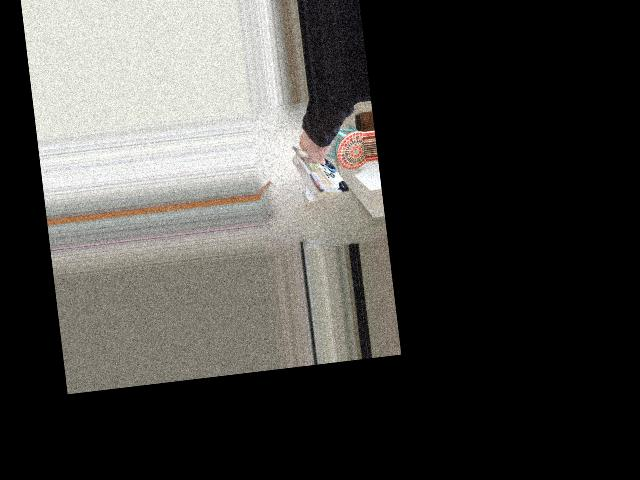cheese: (282, 126, 359, 204)
